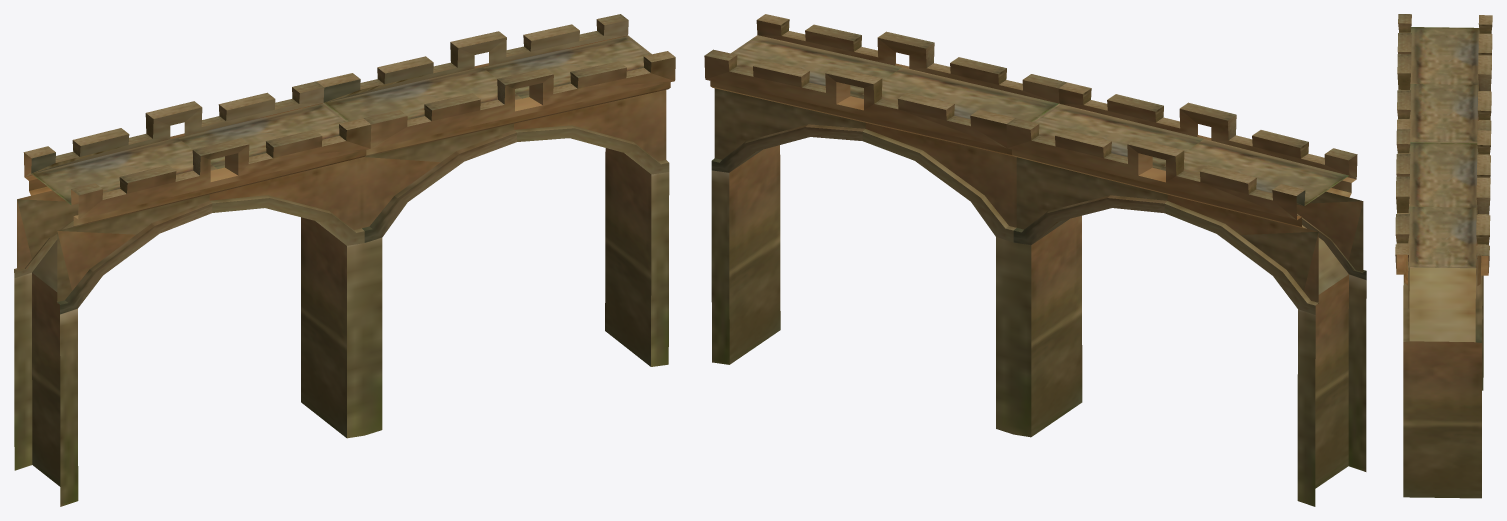
File: Bridge.FBX
3 renders of one model, left to right at view 1: azimuth 30°, elevation 25°; view 2: azimuth 150°, elevation 25°; view 3: azimuth 270°, elevation 25°, orthographic. The views are drawn at different scales.
Visible parts, largest first — view 1: Bridge; view 2: Bridge; view 3: Bridge.
Part boxes in pixels (x1,y1,x2,y2): Bridge: (14,14,675,506); Bridge: (704,14,1366,506); Bridge: (1395,14,1492,498).
Bounding box in the file's own units: 1888 × 961 × 319.
